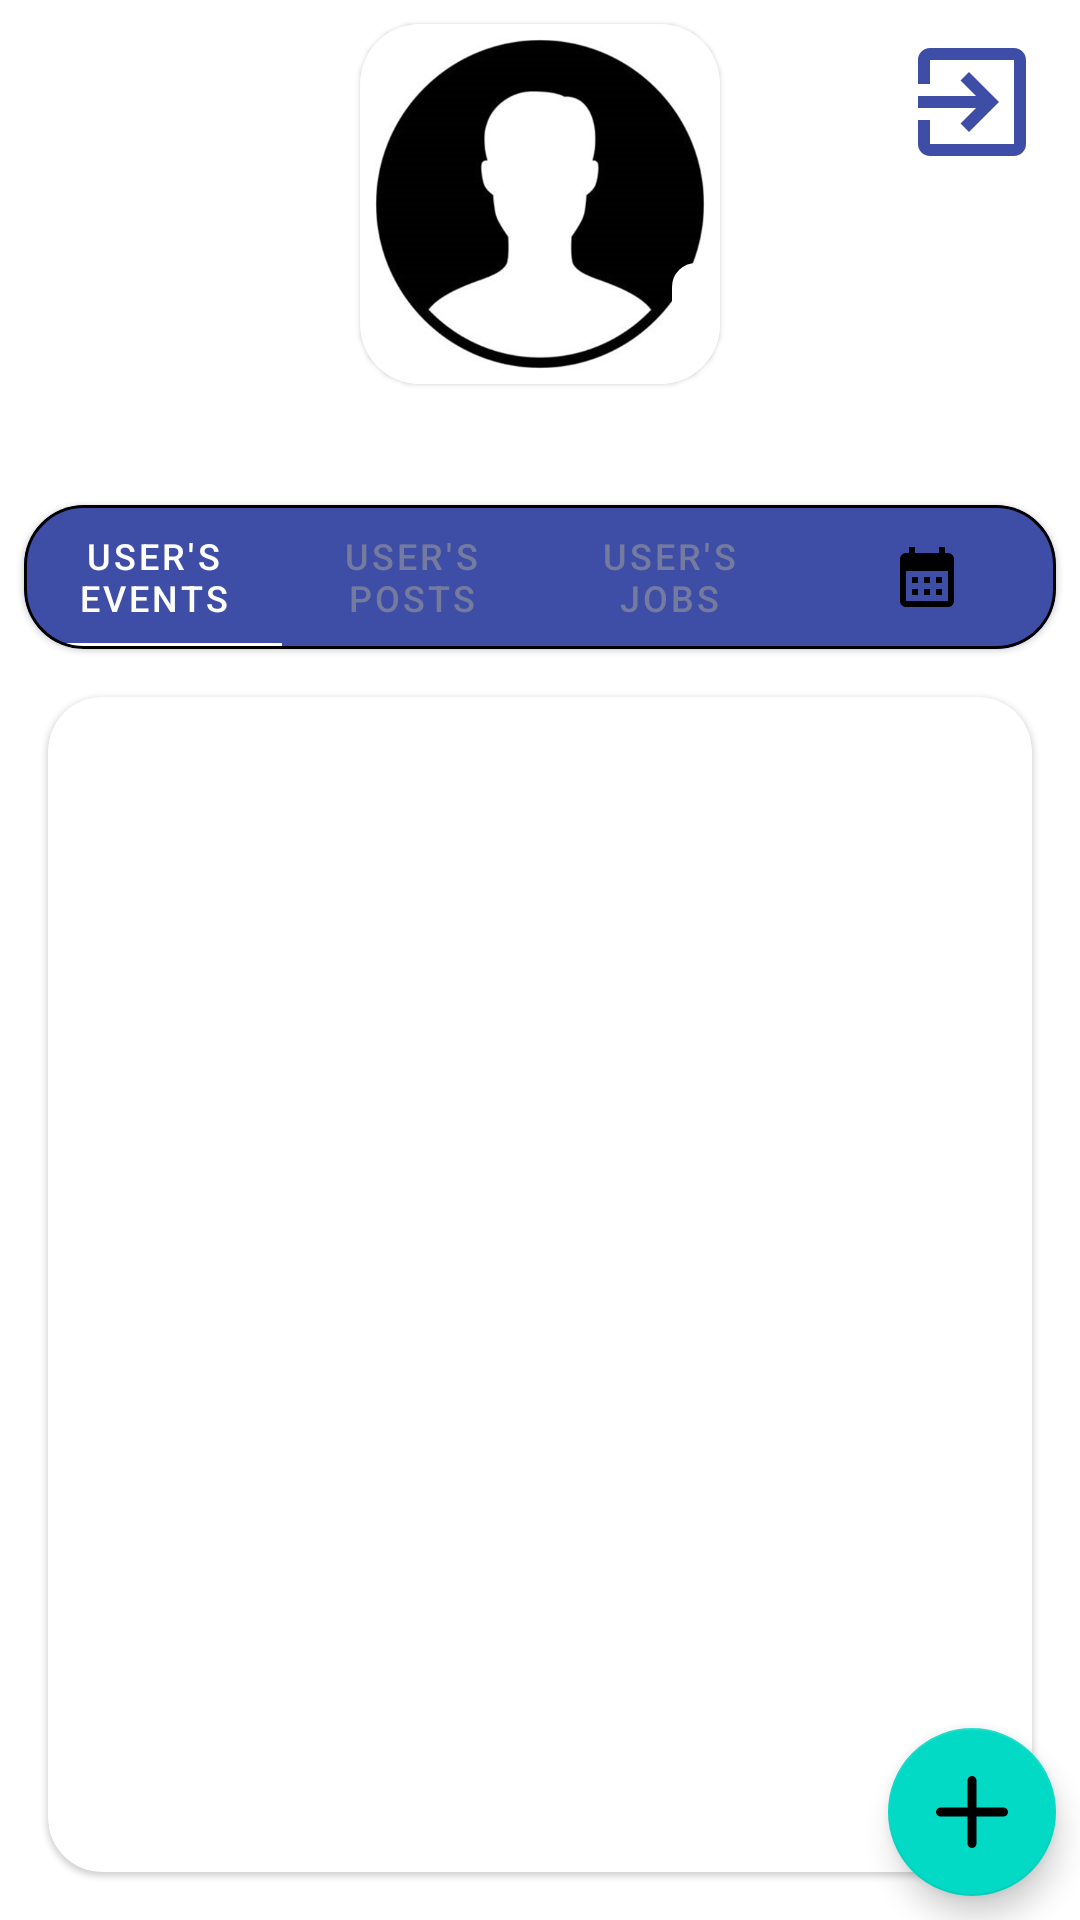

Locate icon controls on the screen. Image size 1080 × 1920, boxes as detection(x1, y1, x2, y2).
Add button: detection(888, 1728, 1056, 1896)
log out: detection(918, 48, 1026, 156)
